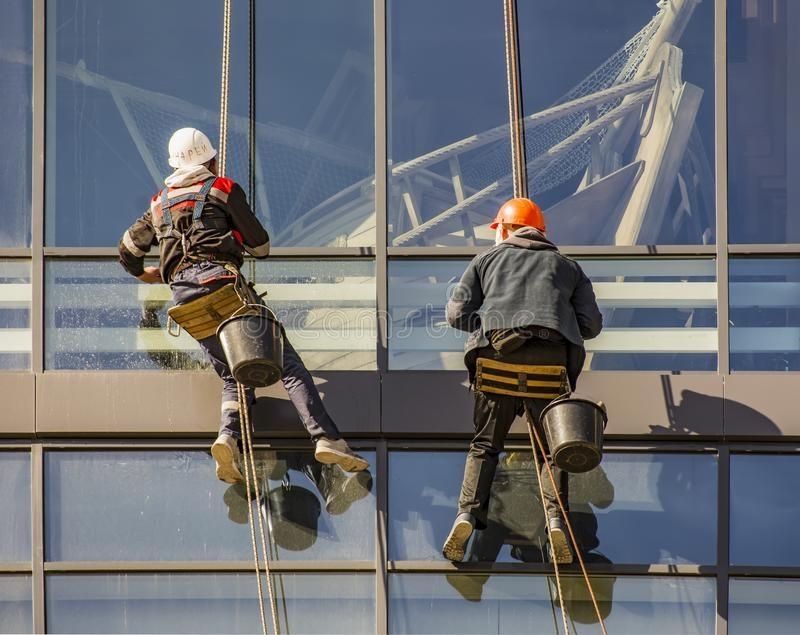helmet: (166, 128, 220, 172), (490, 195, 547, 229)
